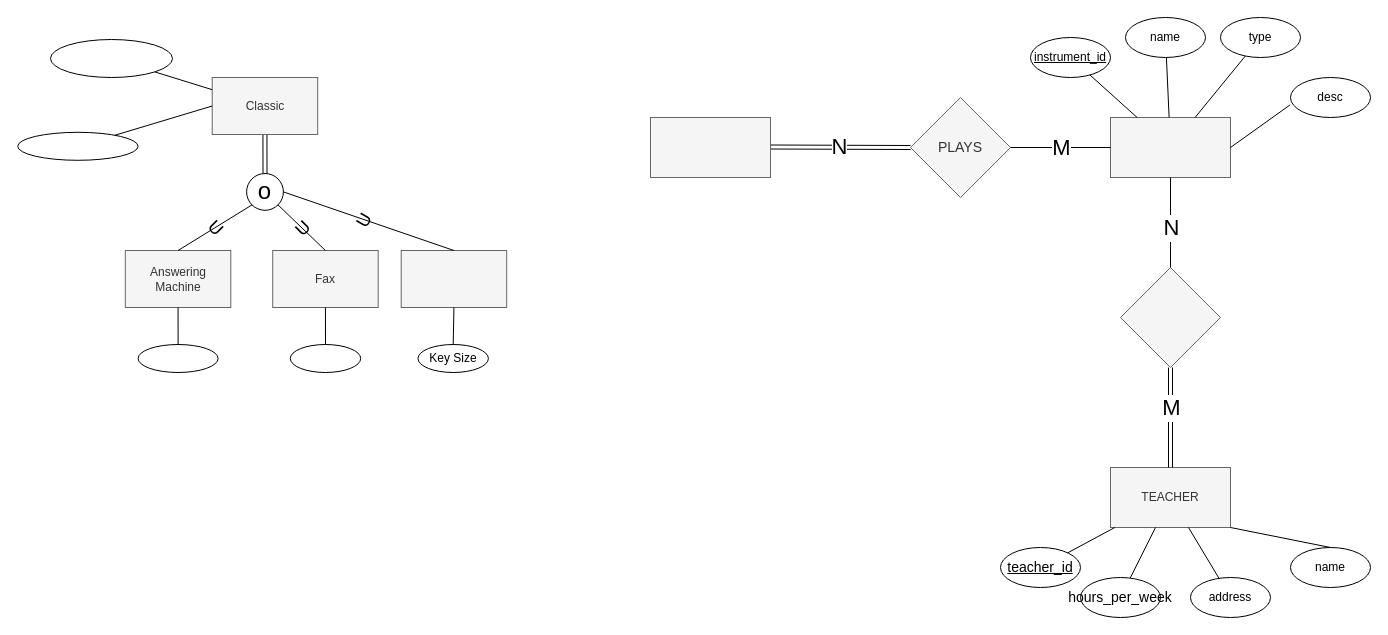
The diagram is 1388 pixels wide and 635 high, and some of its shapes have lost their labels. Here are the shapes that lost their labels. From the top down, the centre of each, then its label:
At pixel 111 58: "age appropriateness".
At pixel 77 145: "max volume level".
At pixel 710 147: "STUDENT".
At pixel 1170 147: "INSTRUMENT".
At pixel 453 279: "Telephone".
At pixel 1170 317: "TAUGHT BY".
At pixel 177 358: "Message Duration".
At pixel 325 358: "# pages".
